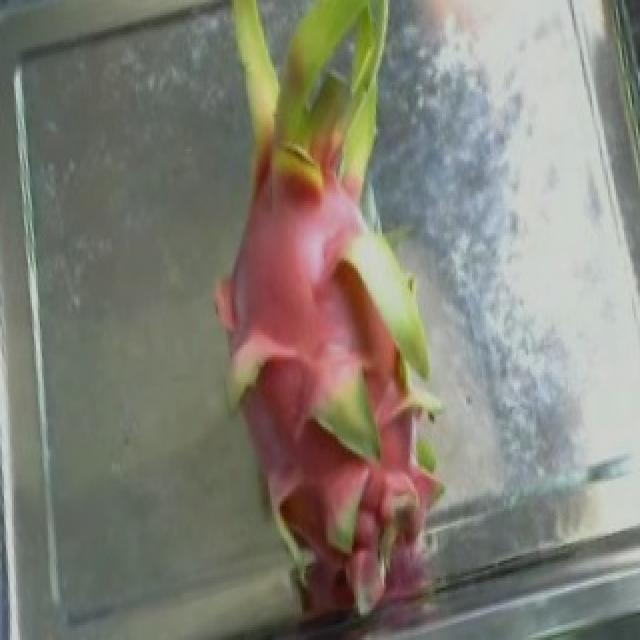fruit: (152, 166, 550, 635)
